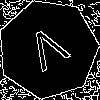V: (23, 24, 76, 81)
